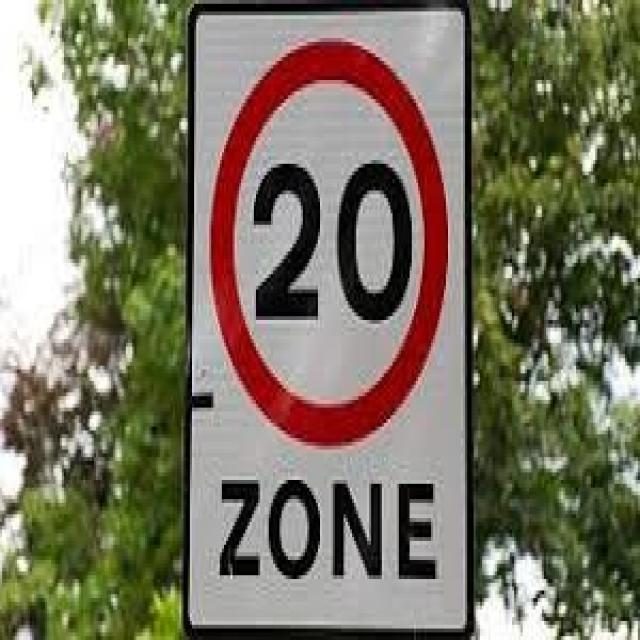speed_limit_20: (209, 33, 450, 449)
